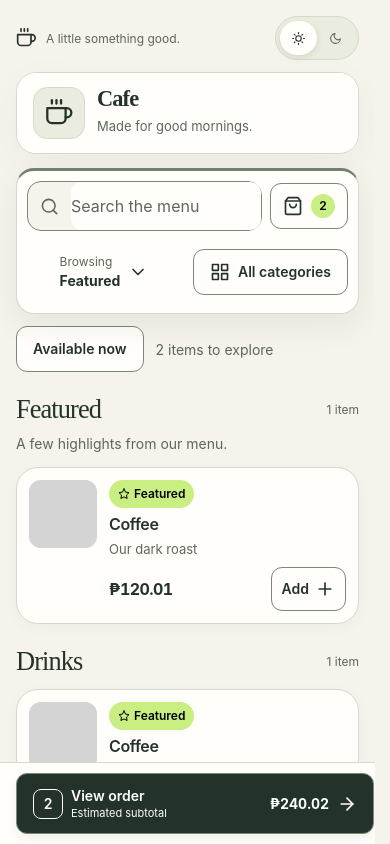
it: shows a cart shortcut only for this shop's items and opens the existing cart
Click the button with aria-label "View order, 2 items, estimated subtotal" at [108, 796], box [16,773,374,834]
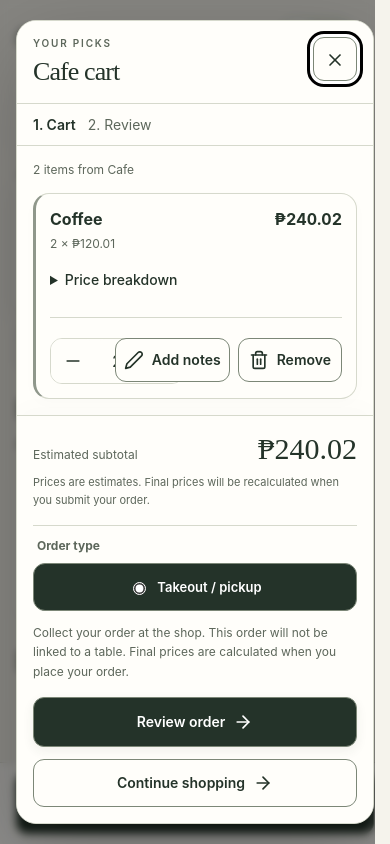
Expected: the dialog "Cafe cart" is shown
Expected: the heading "Coffee" is shown, [50,208,102,230]
